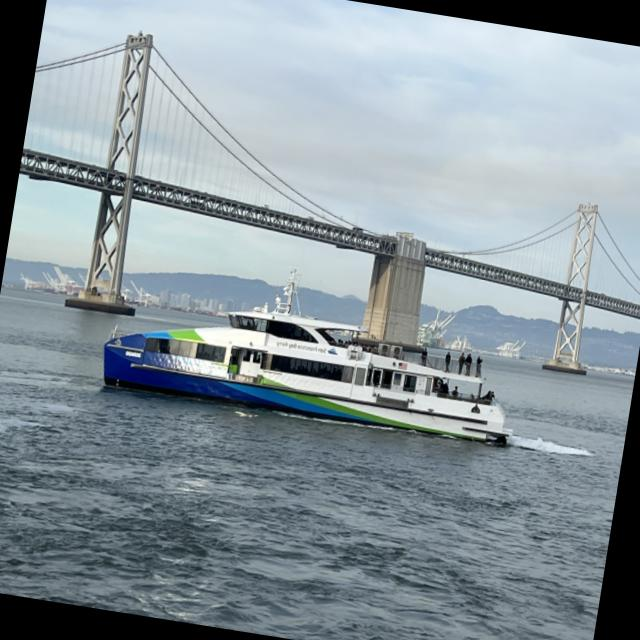Passenger: (104, 273, 509, 444)
